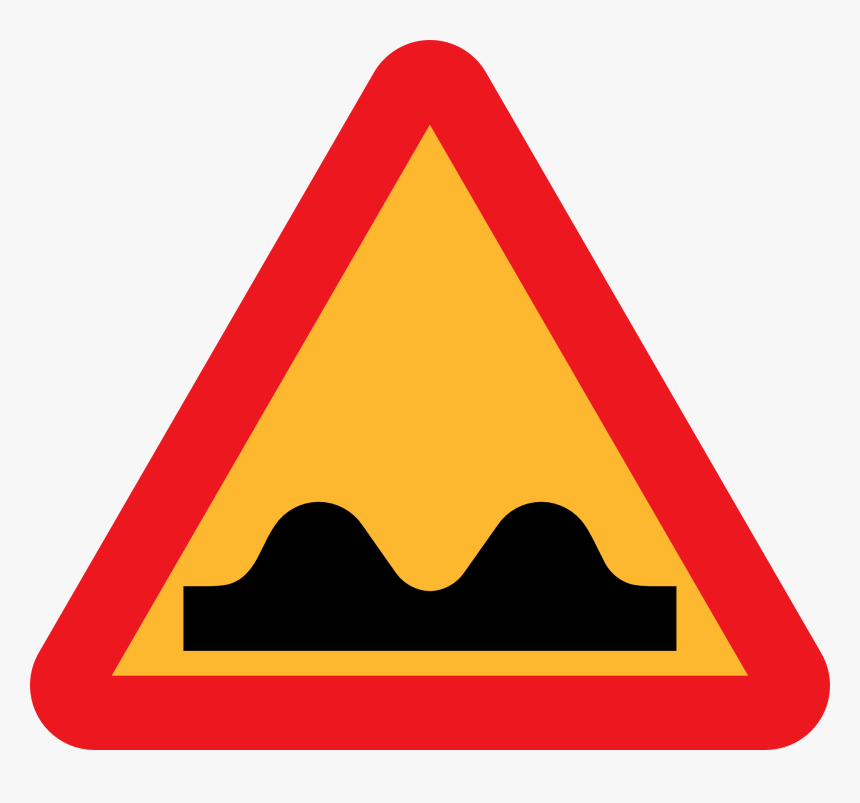speed-breaker: (100, 120, 757, 718)
